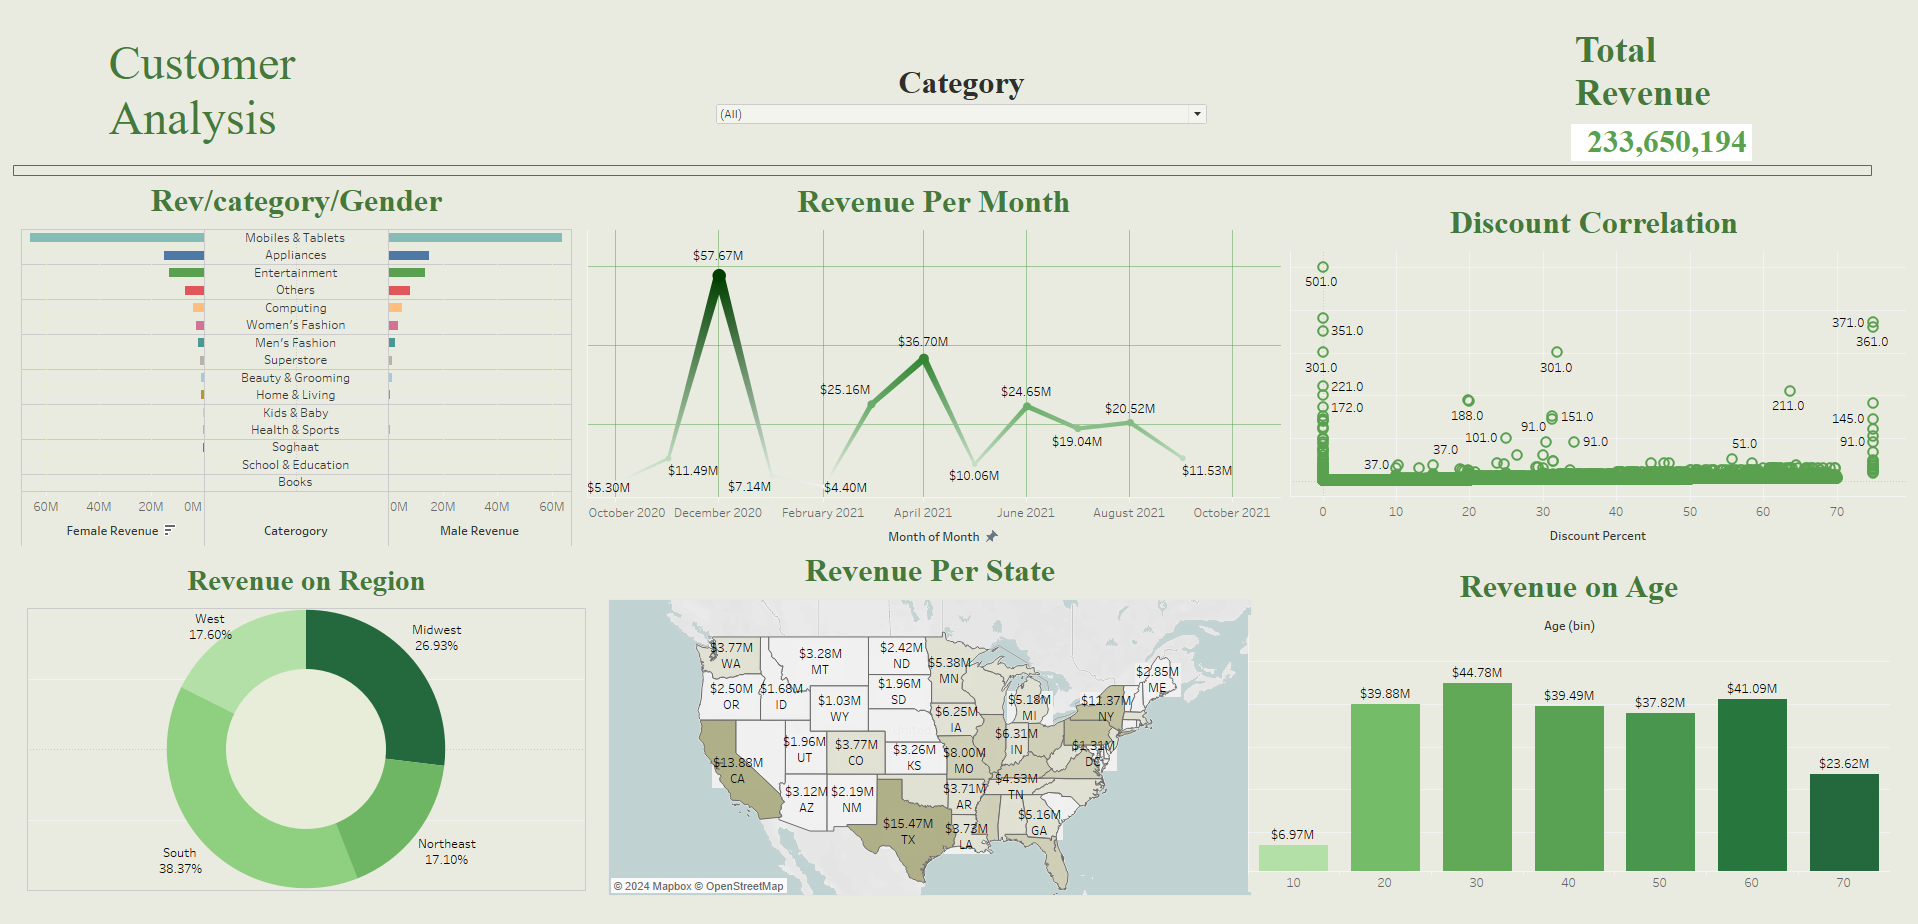

What the dashboard file says about the page in this screenshot:
{"tool":"tableau","page":{"name":"Customer Analysis Dashboard","canvas":[1900,900],"ordinal":0},"visuals":[{"type":"text","box":[97,25,305,133]},{"type":"worksheet","title":"Sheet 17","mark":"Automatic","box":[1562,25,223,138]},{"type":"filter","title":"REV/CAT/Gender","param":"[federated.0rgqgvr08oibch1dpubde0wcinoz].[none:category:nk]","box":[704.1,64,497.3,72]},{"type":"blank","box":[4,165,1859,11]},{"type":"worksheet","title":"REV/CAT/Gender","mark":"Automatic","rows":["category"],"cols":["Calculation_258675545307942915","Calculation_258675545305485314","Calculation_258675545308463108"],"box":[12,178,551,369]},{"type":"worksheet","title":"Revenue Month","mark":"Automatic","rows":["total"],"cols":["month"],"box":[578,179,694,373]},{"type":"worksheet","title":"Discount Corelation","mark":"Automatic","rows":["qty_ordered"],"cols":["Discount_Percent"],"box":[1280.8,200,615.8,351]},{"type":"worksheet","title":"Revenue per State","mark":"Automatic","box":[599,548,644,348]},{"type":"worksheet","title":"Revenue on Region","mark":"Pie","rows":["Calculation_258675545305485314","Calculation_258675545305485314"],"box":[18,560,559,331]},{"type":"worksheet","title":"Revenue on Age","mark":"Automatic","rows":["total"],"cols":["Age (bin)"],"box":[1239,564,642,328]}]}

Visuals, with their boxes in screenshot pixels (x1, y1, x2, y2), scaled from the page's 1900x900 canvas onto the 1918x924 screenshot:
text: pyautogui.locateOnScreen(98, 26, 406, 162)
"Sheet 17" worksheet: pyautogui.locateOnScreen(1577, 26, 1802, 167)
"REV/CAT/Gender" filter: pyautogui.locateOnScreen(711, 66, 1213, 140)
blank: pyautogui.locateOnScreen(4, 169, 1881, 181)
"REV/CAT/Gender" worksheet: pyautogui.locateOnScreen(12, 183, 568, 562)
"Revenue Month" worksheet: pyautogui.locateOnScreen(583, 184, 1284, 567)
"Discount Corelation" worksheet: pyautogui.locateOnScreen(1293, 205, 1915, 566)
"Revenue per State" worksheet: pyautogui.locateOnScreen(605, 563, 1255, 920)
"Revenue on Region" worksheet (Pie marks): pyautogui.locateOnScreen(18, 575, 582, 915)
"Revenue on Age" worksheet: pyautogui.locateOnScreen(1251, 579, 1899, 916)
